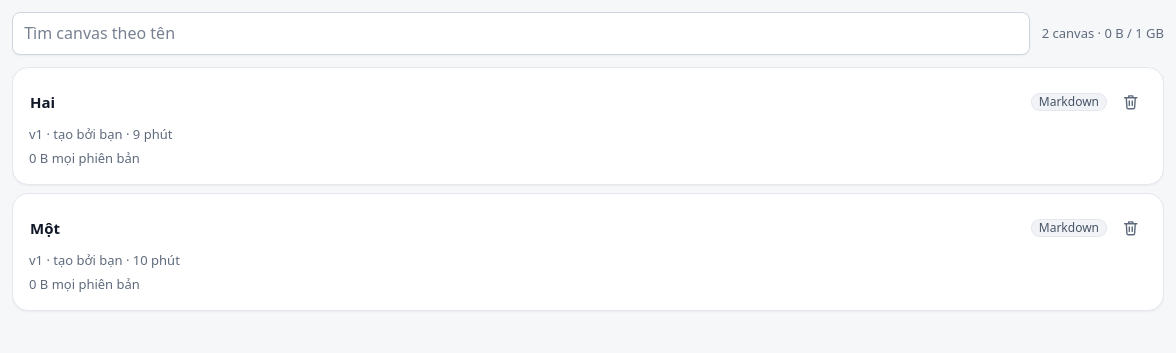
Test case: deleting from the library › says under the row that the server would not delete it, and keeps the row
This screenshot has width=1176, height=353.
What coordinates should you click on to do the following:
click the button named "Xoá canvas Một"
I would click on:
 (1131, 228)
Its box is [1115,212,1147,244].
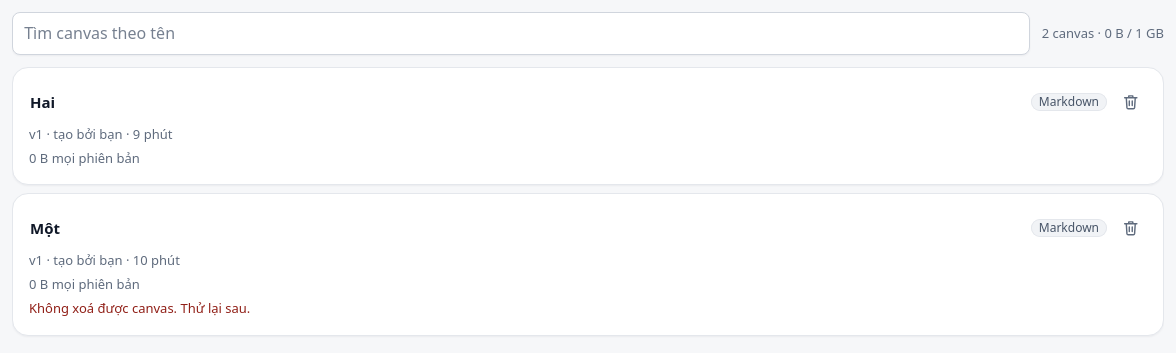
Check: the message reads "Không xoá được canvas. Thử lại sau.", box [29,299,250,317]
